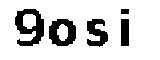9: (10, 5, 46, 48)
i: (118, 5, 134, 50)
o: (48, 18, 81, 49)
s: (84, 17, 110, 53)
